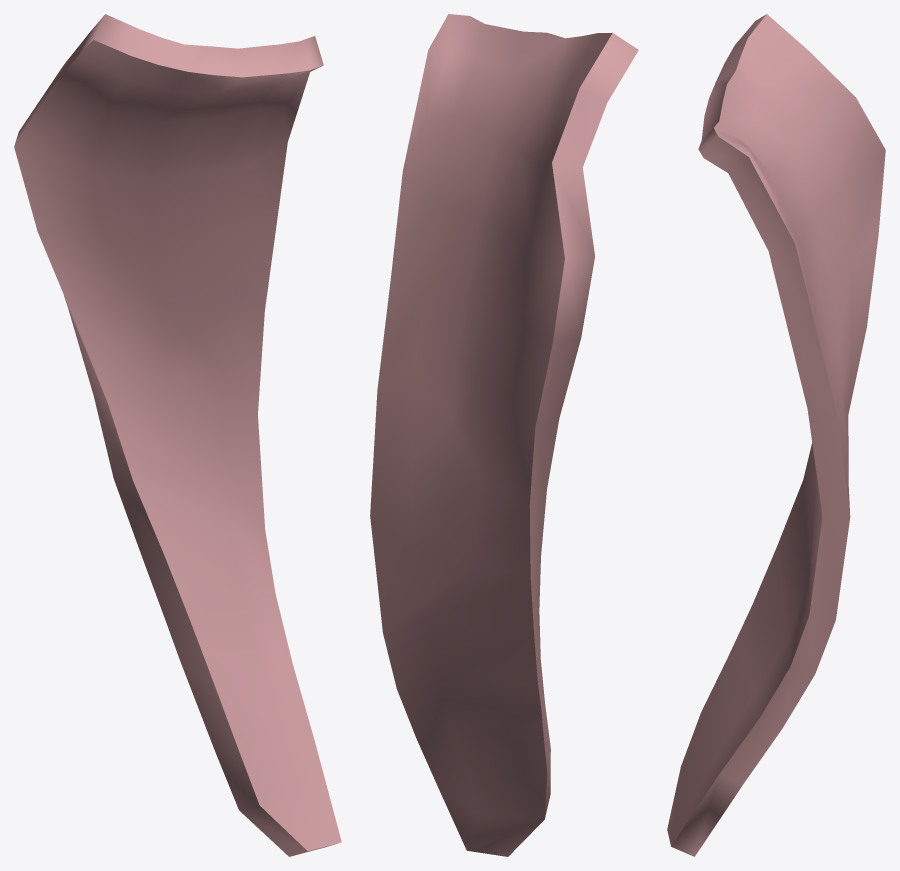
3 views of the same model, side by side, from view 1: azimuth 30°, elevation 25°; view 2: azimuth 150°, elevation 25°; view 3: azimuth 270°, elevation 25° (orthographic). The views are drawn at different scales.
Parts seen in each view (by area): view 1: ZA_095ec1a57a0136c6; view 2: ZA_095ec1a57a0136c6; view 3: ZA_095ec1a57a0136c6.
Boxes of the visible parts, x1=… form: ZA_095ec1a57a0136c6: x1=14, y1=14, x2=341, y2=856; ZA_095ec1a57a0136c6: x1=370, y1=14, x2=638, y2=856; ZA_095ec1a57a0136c6: x1=667, y1=14, x2=885, y2=856.
Bounding box in the file's own units: 0.025 × 0.0911 × 0.0236.
